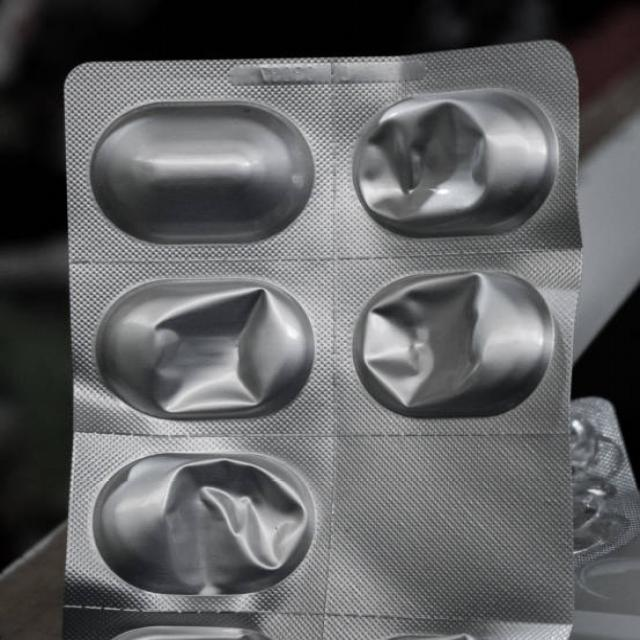Empty: (88, 267, 317, 430), (87, 451, 320, 603), (338, 264, 557, 425), (344, 91, 560, 236)
Pill: (81, 77, 328, 252)
